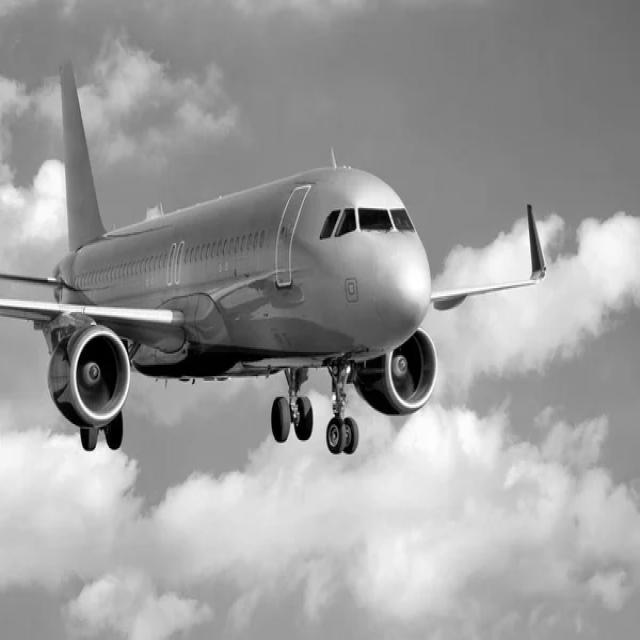Aircraft: (0, 124, 563, 452)
